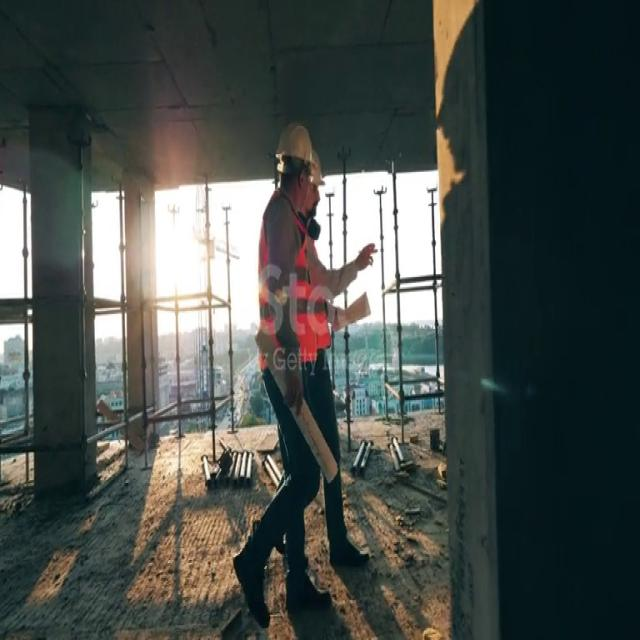capacete: (274, 116, 314, 178), (306, 144, 327, 193)
